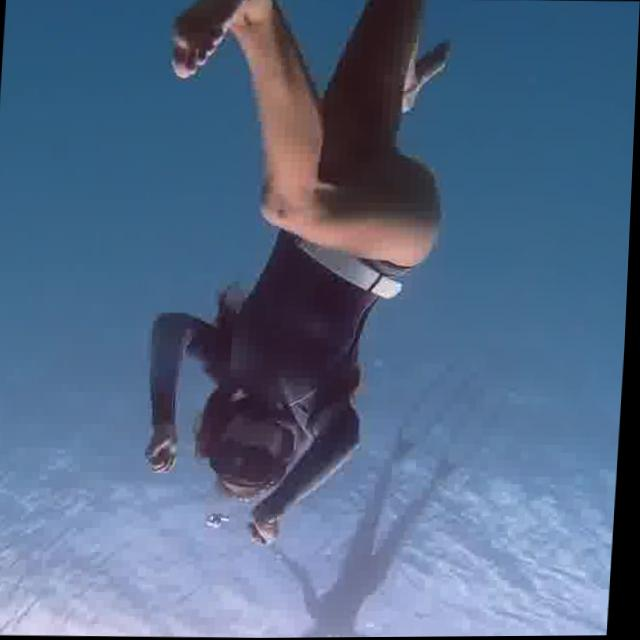human: (110, 0, 474, 560), (277, 443, 450, 638)
